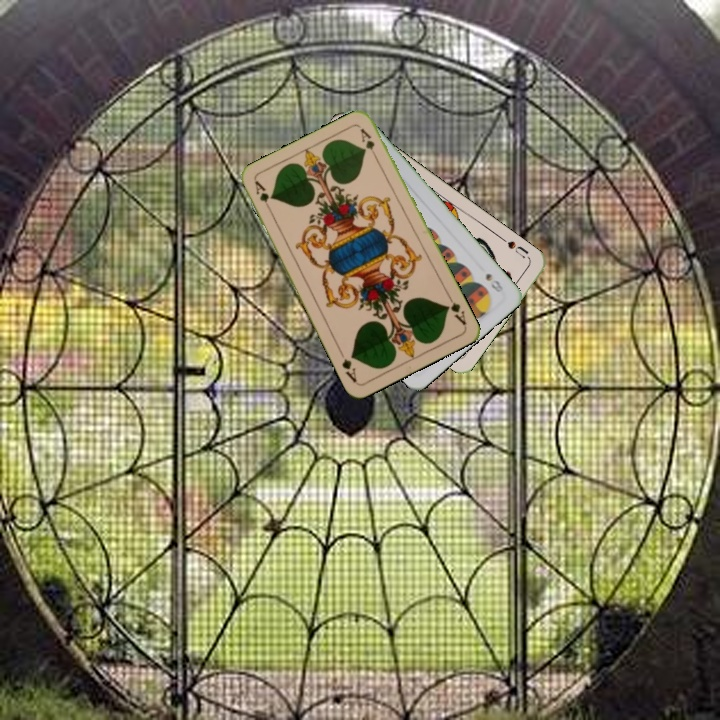GA: (442, 291, 469, 328), (250, 177, 275, 215)
S8: (481, 269, 506, 295)
SU: (497, 233, 531, 261)
